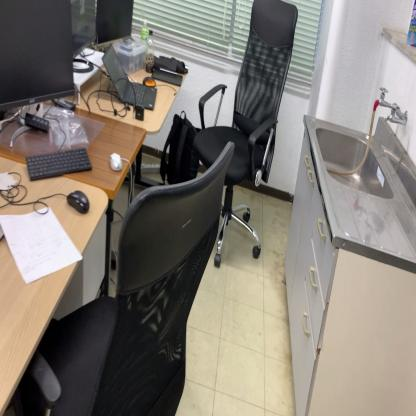chair: (29, 140, 235, 416), (193, 0, 299, 272)
